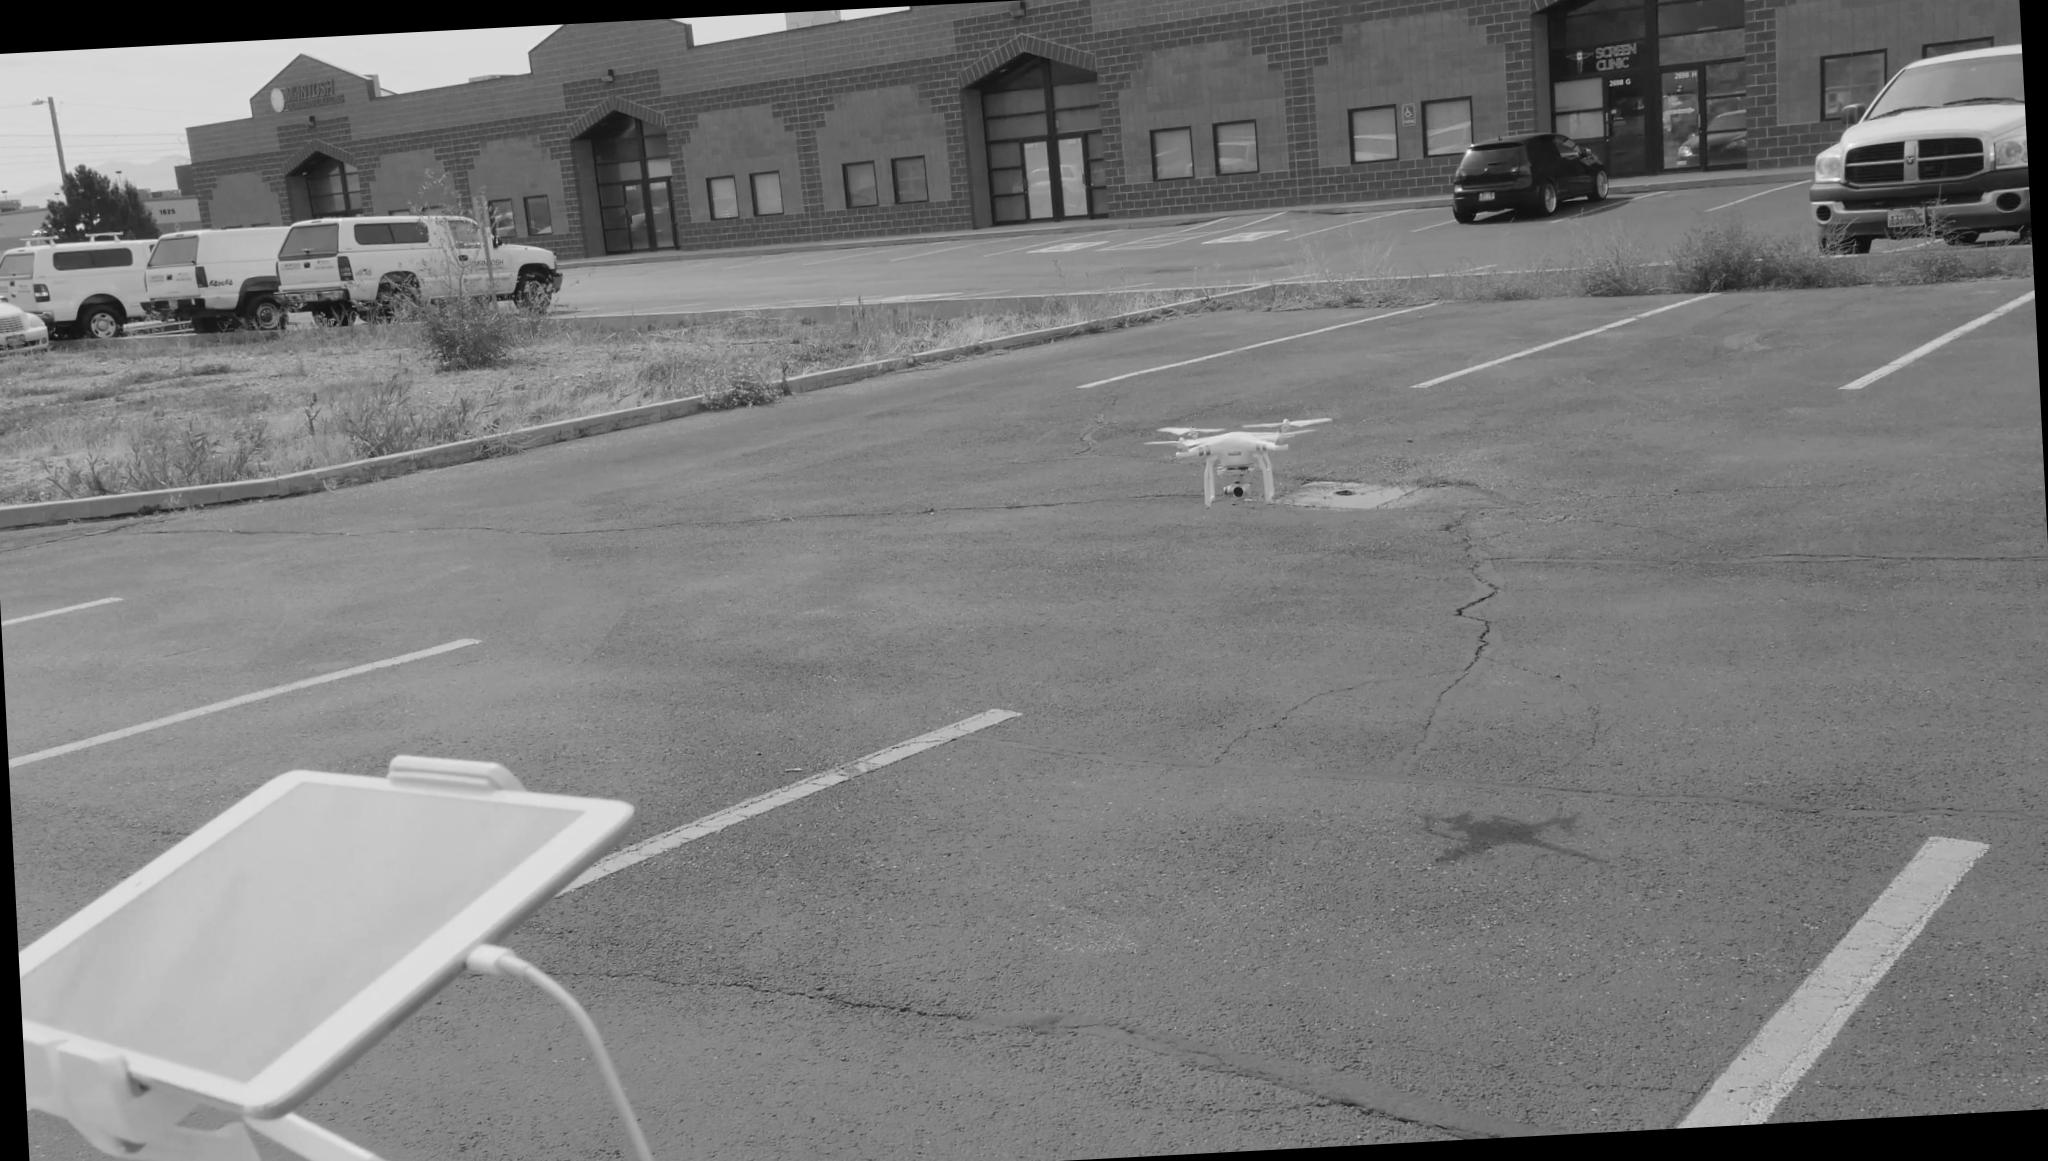drone: (1151, 401, 1333, 507)
